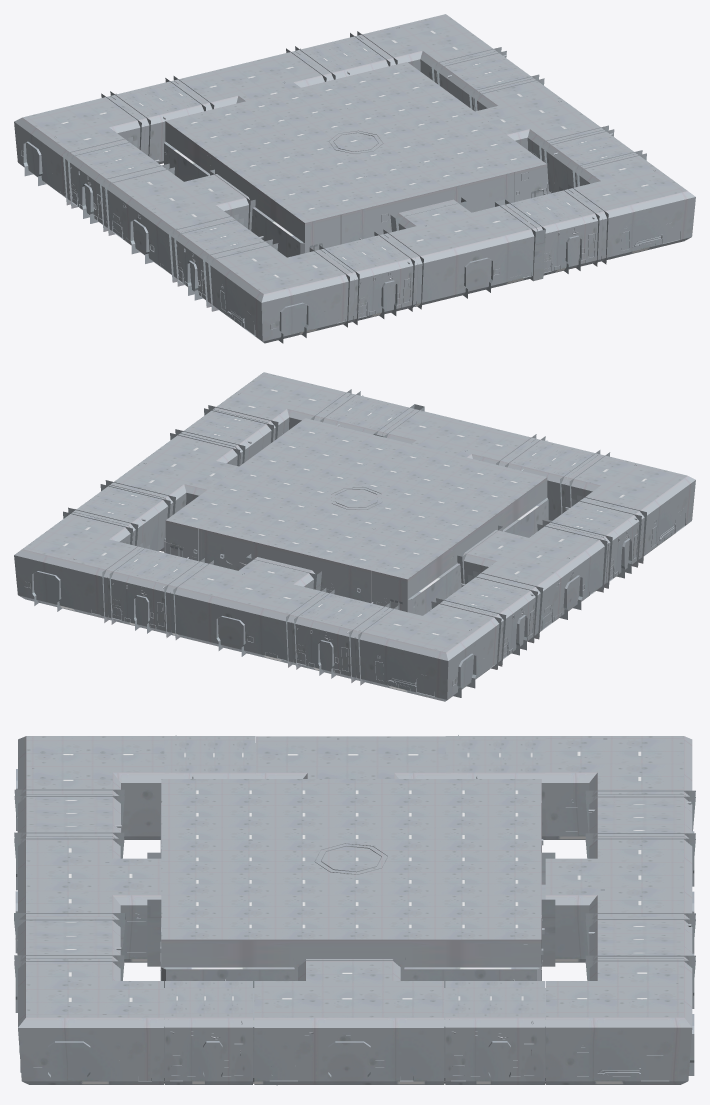
Rendered from Combined_Mesh_root_scene__16_1995fef1__ZombiesII_laboratory_02_d_7436f9f5_c1f257.obj.
3 views of the same model, one above another, from view 1: azimuth 30°, elevation 25°; view 2: azimuth 150°, elevation 25°; view 3: azimuth 270°, elevation 25° (orthographic). The views are drawn at different scales.
Size of the model in its own units: 72.61 by 10.34 by 71.75.
Materials: 726 (726 with a texture image).
